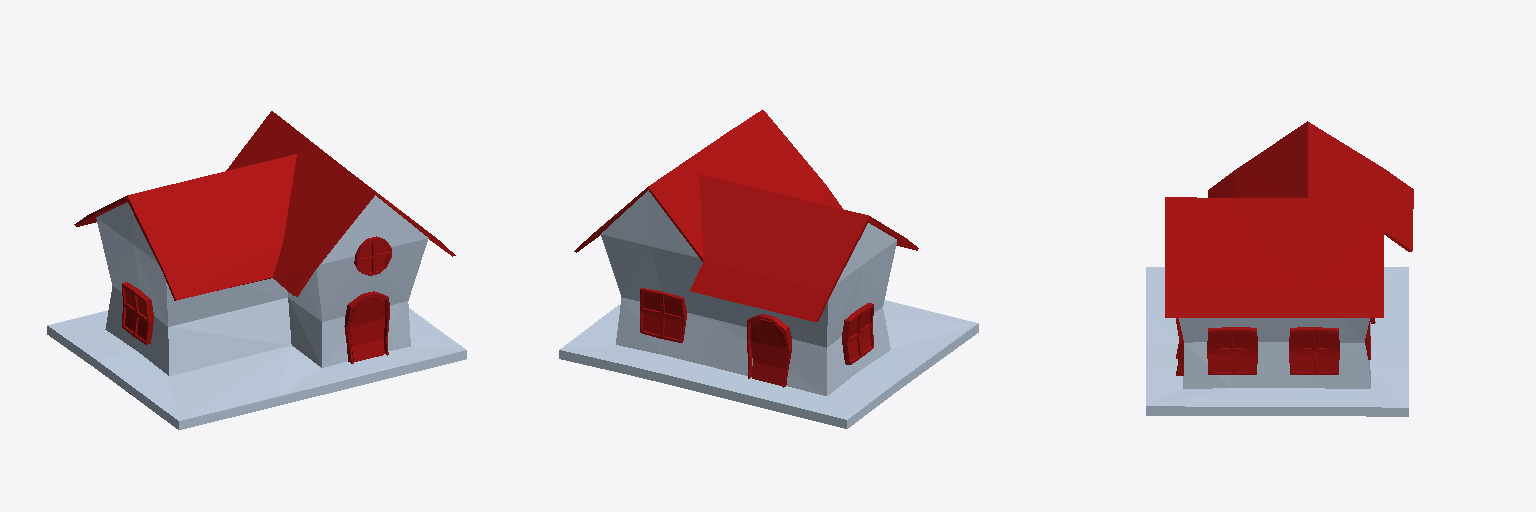
File: CasaFazenda.obj
3 renders of one model, left to right at view 1: azimuth 30°, elevation 25°; view 2: azimuth 150°, elevation 25°; view 3: azimuth 270°, elevation 25°, orthographic.
Visible parts, largest first — view 1: Plane001, Farm_House_Roof, Box011, Box003, Cylinder001; view 2: Plane001, Farm_House_Roof, Box004, Box005, Box003; view 3: Farm_House_Roof, Plane001, Box006, Box007.
Part boxes in pixels (left/top/right/bottom): Plane001: left=47, top=195, right=466, bottom=429; Farm_House_Roof: left=74, top=111, right=455, bottom=300; Box011: left=344, top=291, right=389, bottom=363; Box003: left=122, top=282, right=153, bottom=344; Cylinder001: left=354, top=236, right=391, bottom=275; Plane001: left=559, top=190, right=978, bottom=428; Farm_House_Roof: left=574, top=110, right=918, bottom=321; Box004: left=747, top=314, right=791, bottom=387; Box005: left=640, top=288, right=686, bottom=342; Box003: left=842, top=303, right=873, bottom=364; Farm_House_Roof: left=1165, top=121, right=1413, bottom=317; Plane001: left=1146, top=267, right=1408, bottom=416; Box006: left=1207, top=327, right=1257, bottom=374; Box007: left=1289, top=327, right=1339, bottom=374.
Bounding box in the file's own units: 137 × 82.95 × 111.